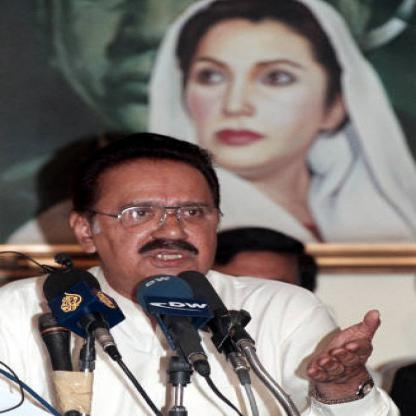face: (174, 1, 334, 172), (89, 139, 226, 296)
